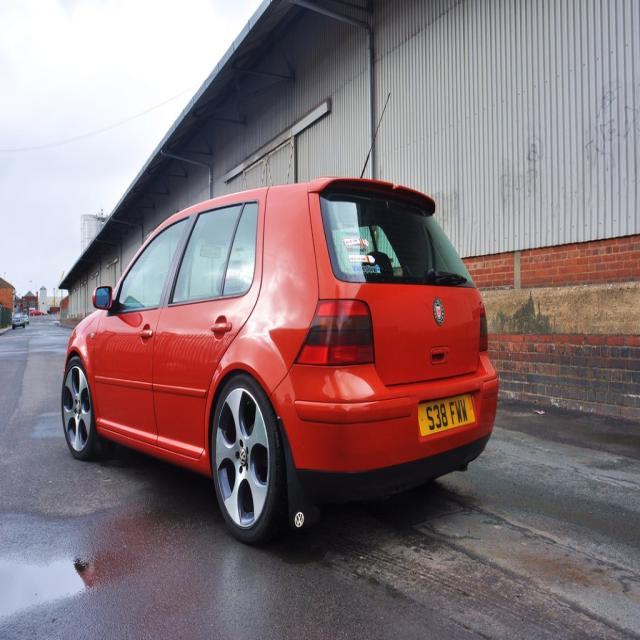Car: (62, 93, 500, 545), (12, 312, 25, 332), (30, 307, 44, 316), (25, 316, 30, 325)
